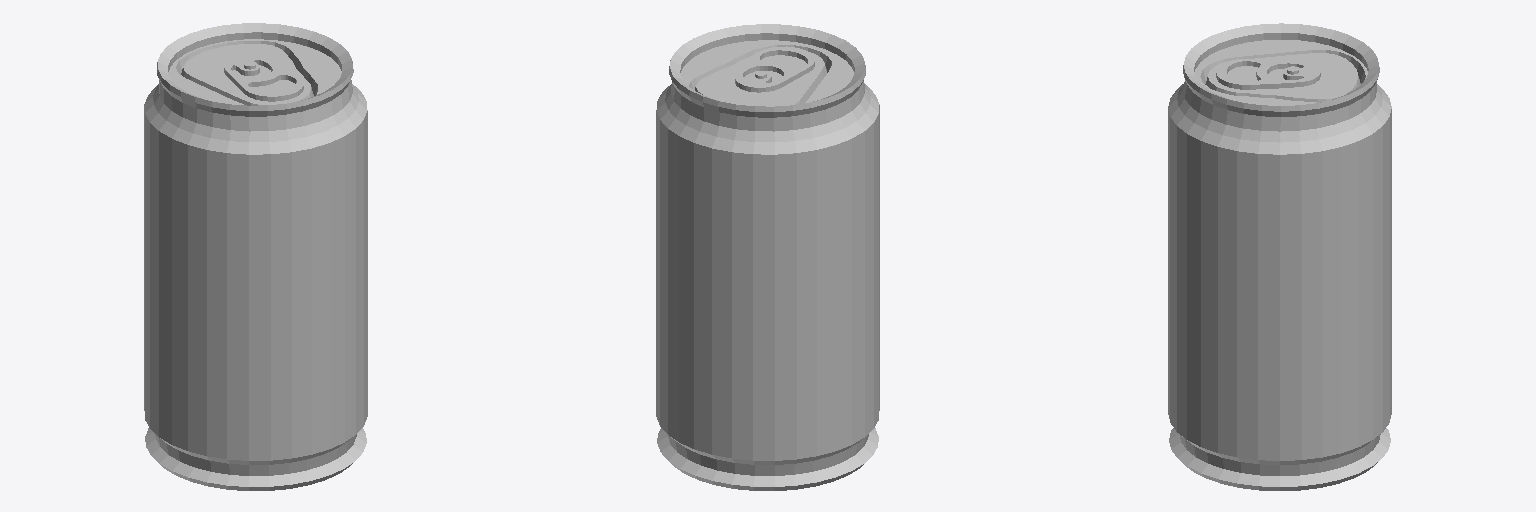
Rendered from can6.obj.
3 renders of one model, left to right at view 1: azimuth 30°, elevation 25°; view 2: azimuth 150°, elevation 25°; view 3: azimuth 270°, elevation 25°, orthographic.
Visible parts, largest first — view 1: obj1; view 2: obj1; view 3: obj1.
Boxes of the visible parts, <box> form: obj1: <box>144,23,367,490</box>; obj1: <box>656,24,879,490</box>; obj1: <box>1168,23,1391,490</box>.
Size of the model in its own units: 6.78 by 12.8 by 6.78.